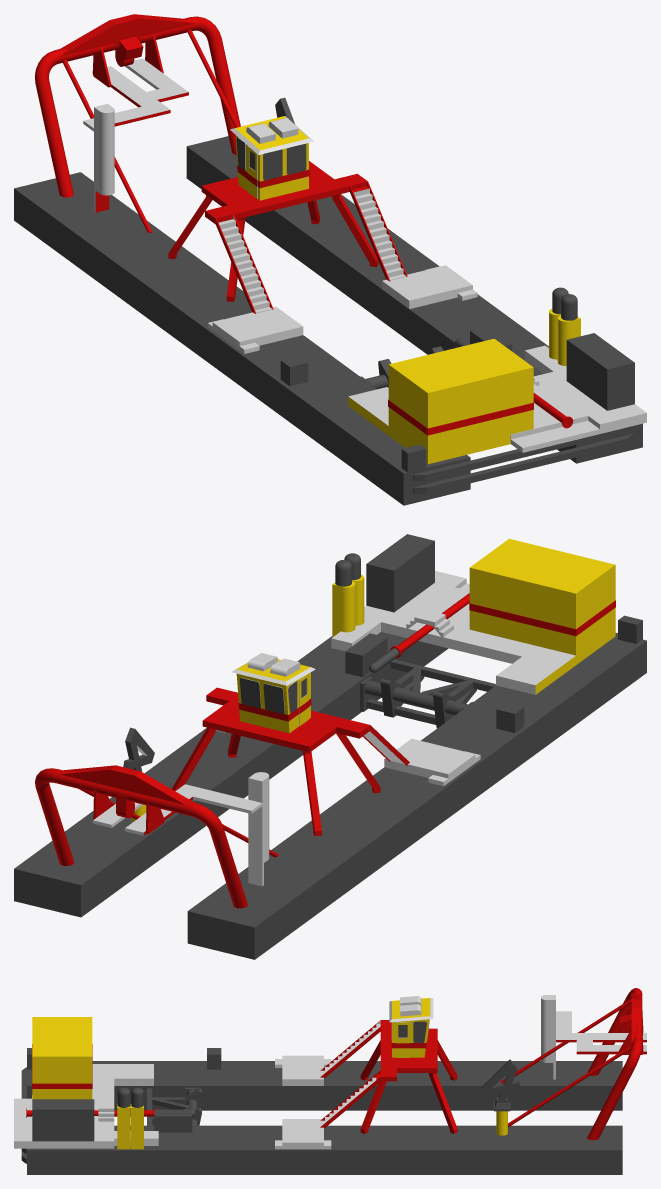
Rendered from silvi_hull.glb.
3 renders of one model, top to bottom at view 1: azimuth 30°, elevation 25°; view 2: azimuth 150°, elevation 25°; view 3: azimuth 270°, elevation 25°, orthographic. The views are drawn at different scales.
Visible parts, largest first — view 1: Silvi Hull; view 2: Silvi Hull; view 3: Silvi Hull.
Part boxes in pixels (left/top/right/bottom): Silvi Hull: left=14, top=14, right=646, bottom=505; Silvi Hull: left=14, top=534, right=646, bottom=959; Silvi Hull: left=14, top=988, right=646, bottom=1174.
Bounding box in the file's own units: 468 × 311 × 1404.
